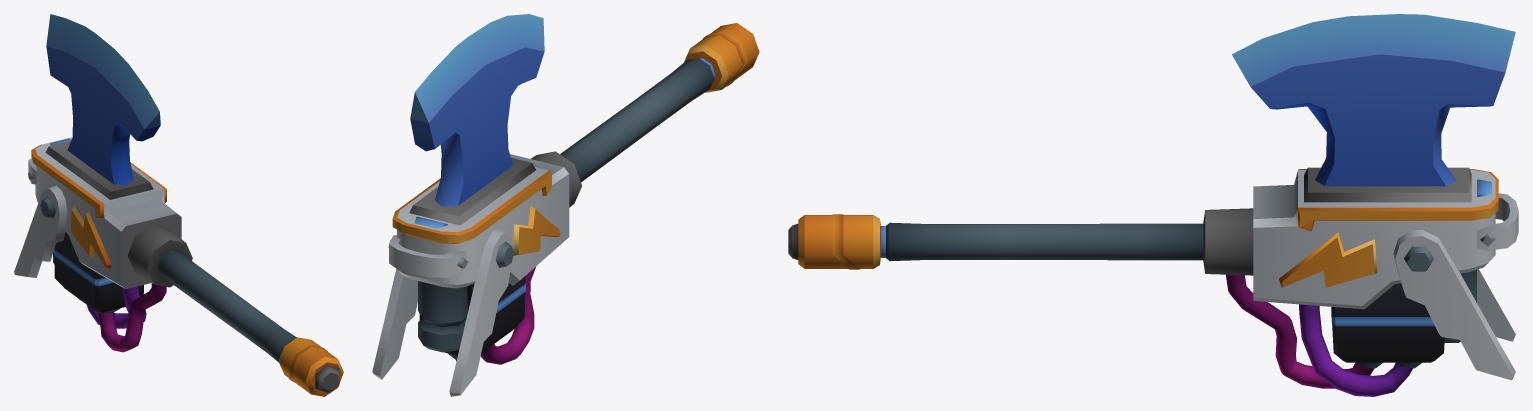
File: Melee_ThunderAxe.fbx
3 views of the same model, side by side, from view 1: azimuth 30°, elevation 25°; view 2: azimuth 150°, elevation 25°; view 3: azimuth 270°, elevation 25° (orthographic). The views are drawn at different scales.
Visible parts, largest first — view 1: Melee_ThunderAxe; view 2: Melee_ThunderAxe; view 3: Melee_ThunderAxe.
Part boxes in pixels (left/top/right/bottom): Melee_ThunderAxe: left=14, top=14, right=343, bottom=396; Melee_ThunderAxe: left=372, top=14, right=759, bottom=396; Melee_ThunderAxe: left=788, top=14, right=1518, bottom=396.
Bounding box in the file's own units: 0.208 × 0.6796 × 1.18.
